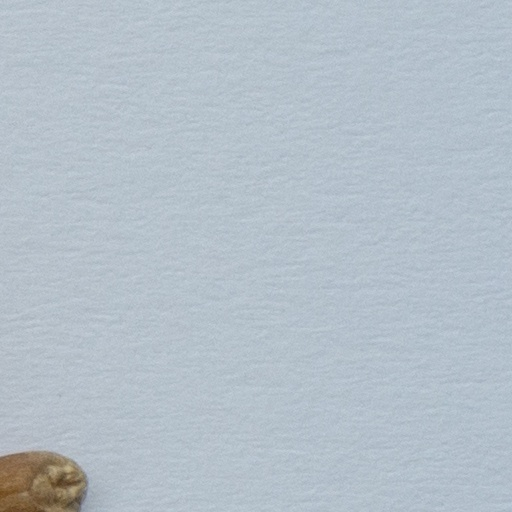Wheat-grain: (0, 447, 88, 511)
